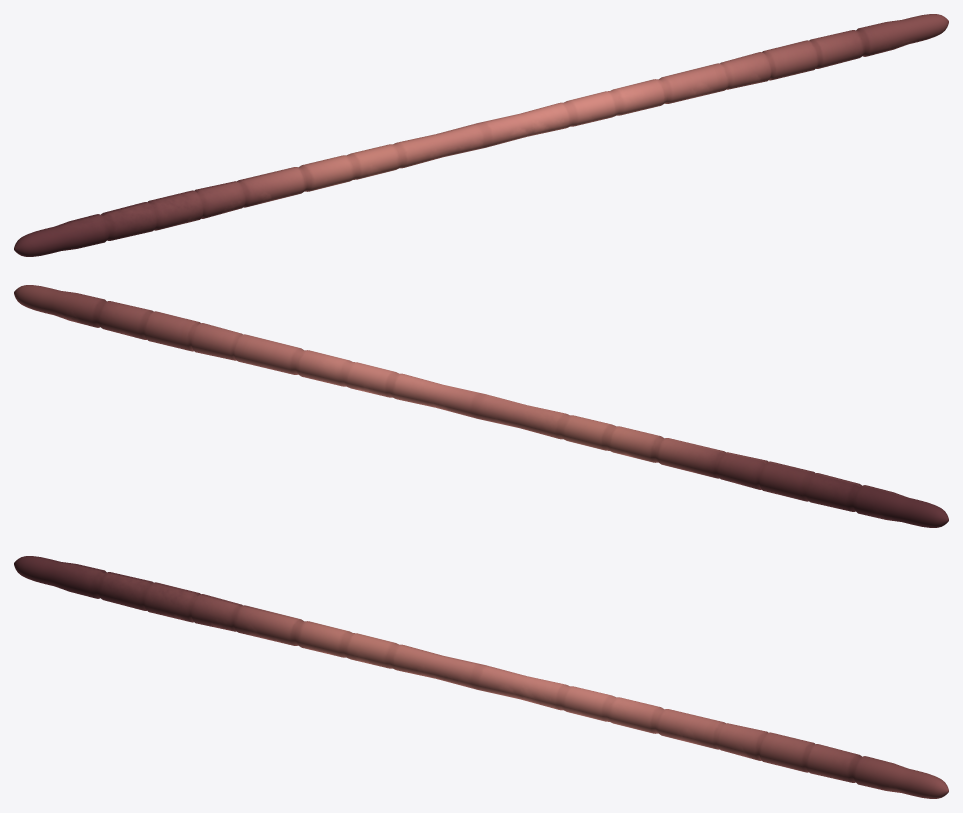
The model's file is worm_Model.fbx.
3 views of the same model, one above another, from view 1: azimuth 30°, elevation 25°; view 2: azimuth 150°, elevation 25°; view 3: azimuth 330°, elevation 25° (orthographic).
Parts seen in each view (by area): view 1: worm_Mesh; view 2: worm_Mesh; view 3: worm_Mesh.
Boxes of the visible parts, x1,y1,x2,y2 form: worm_Mesh: (14, 14, 948, 256); worm_Mesh: (14, 285, 948, 527); worm_Mesh: (14, 556, 948, 798).
Size of the model in its own units: 713 by 20.46 by 20.46.
Materials: 1 (1 with a texture image).
